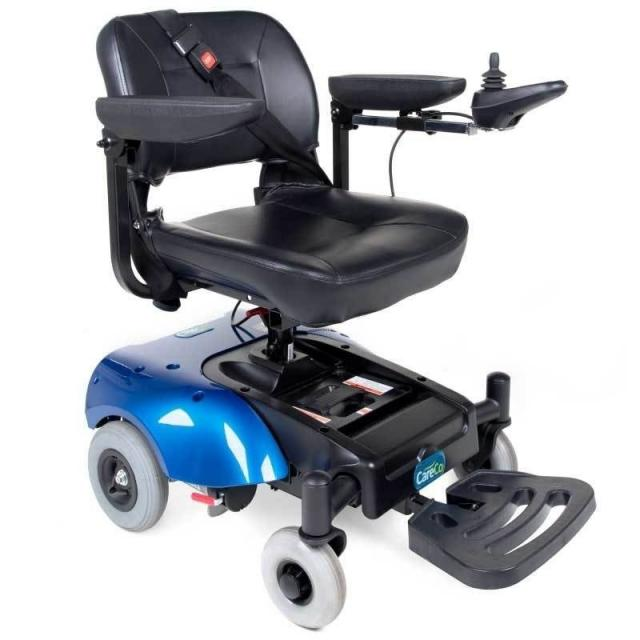wheelchair: (87, 2, 603, 634)
